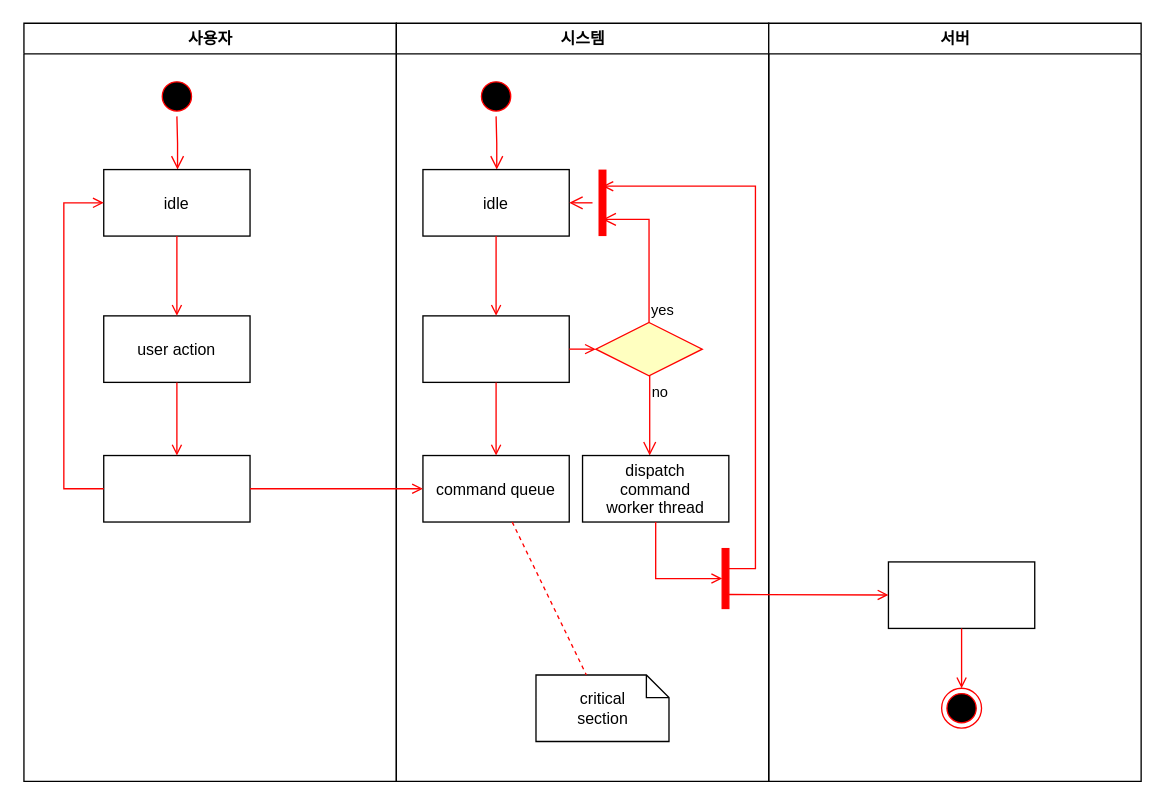
This 1164x805 diagram has some shape labels left out. Here are the shapes that lost their labels. From the top down, the centre of each, then its label:
point 495,348: check for new commands
point 648,348: queue empty
point 176,488: post command
point 961,594: process command
